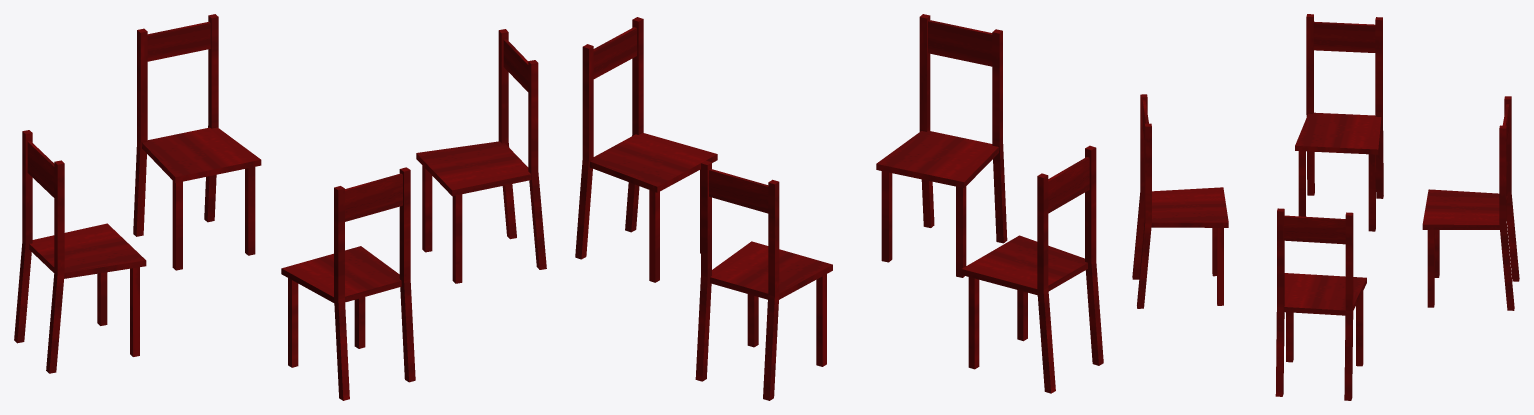
The model's file is Sillas.obj.
3 renders of one model, left to right at view 1: azimuth 30°, elevation 25°; view 2: azimuth 150°, elevation 25°; view 3: azimuth 270°, elevation 25°, orthographic. The views are drawn at different scales.
Parts seen in each view (by area): view 1: Comedor:polySurface1, Comedor:polySurface5, Comedor:polySurface3, Comedor:polySurface6; view 2: Comedor:polySurface1, Comedor:polySurface5, Comedor:polySurface6, Comedor:polySurface3; view 3: Comedor:polySurface6, Comedor:polySurface3, Comedor:polySurface5, Comedor:polySurface1.
Boxes of the visible parts, left/top/right/bottom form: Comedor:polySurface1: left=281, top=167, right=415, bottom=400; Comedor:polySurface5: left=133, top=14, right=261, bottom=270; Comedor:polySurface3: left=416, top=29, right=546, bottom=283; Comedor:polySurface6: left=14, top=130, right=146, bottom=373; Comedor:polySurface1: left=876, top=14, right=1007, bottom=277; Comedor:polySurface5: left=695, top=160, right=832, bottom=400; Comedor:polySurface6: left=961, top=145, right=1103, bottom=393; Comedor:polySurface3: left=575, top=17, right=717, bottom=282; Comedor:polySurface6: left=1295, top=14, right=1383, bottom=231; Comedor:polySurface3: left=1275, top=208, right=1366, bottom=400; Comedor:polySurface5: left=1422, top=96, right=1519, bottom=310; Comedor:polySurface1: left=1132, top=94, right=1228, bottom=308.
Bounding box in the file's own units: 32.69 × 13.42 × 25.53.
1 material, 1 textured.
